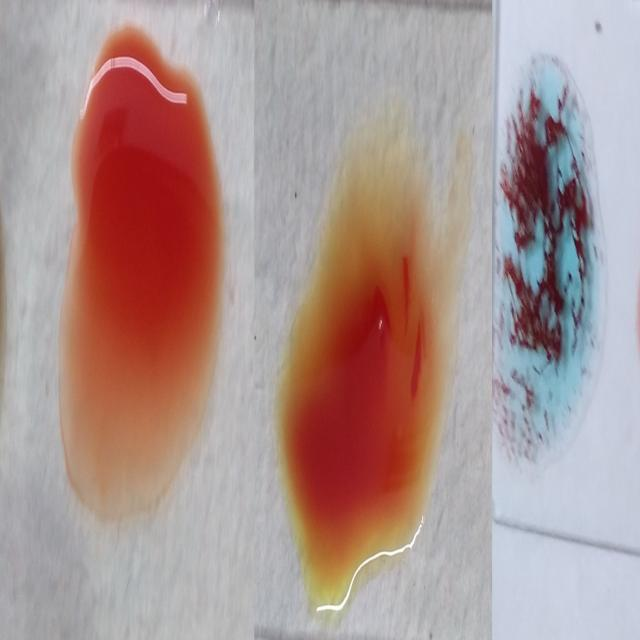A: (497, 53, 599, 473)
